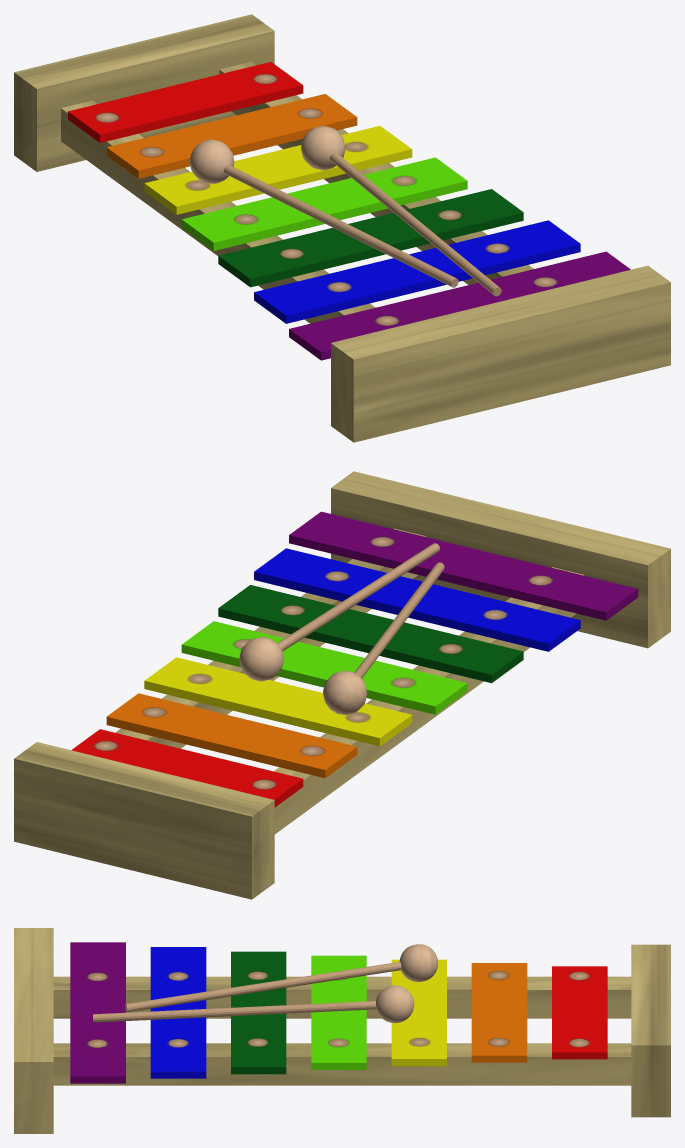
File: rainbowxylopohne.glb
The picture shows the model from 3 angles, top to bottom: view 1: azimuth 30°, elevation 25°; view 2: azimuth 150°, elevation 25°; view 3: azimuth 270°, elevation 25°; orthographic projection. The views are drawn at different scales.
Parts seen in each view (by area): view 1: xylophone4; view 2: xylophone4; view 3: xylophone4.
Part boxes in pixels (x1=…): xylophone4: x1=14, y1=14, x2=670, y2=442; xylophone4: x1=14, y1=471, x2=670, y2=899; xylophone4: x1=14, y1=928, x2=670, y2=1133.
Size of the model in its own units: 40 by 12.91 by 82.86.
1 material, 1 textured.
